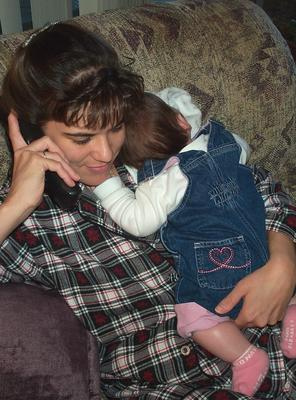person: (1, 19, 294, 400)
